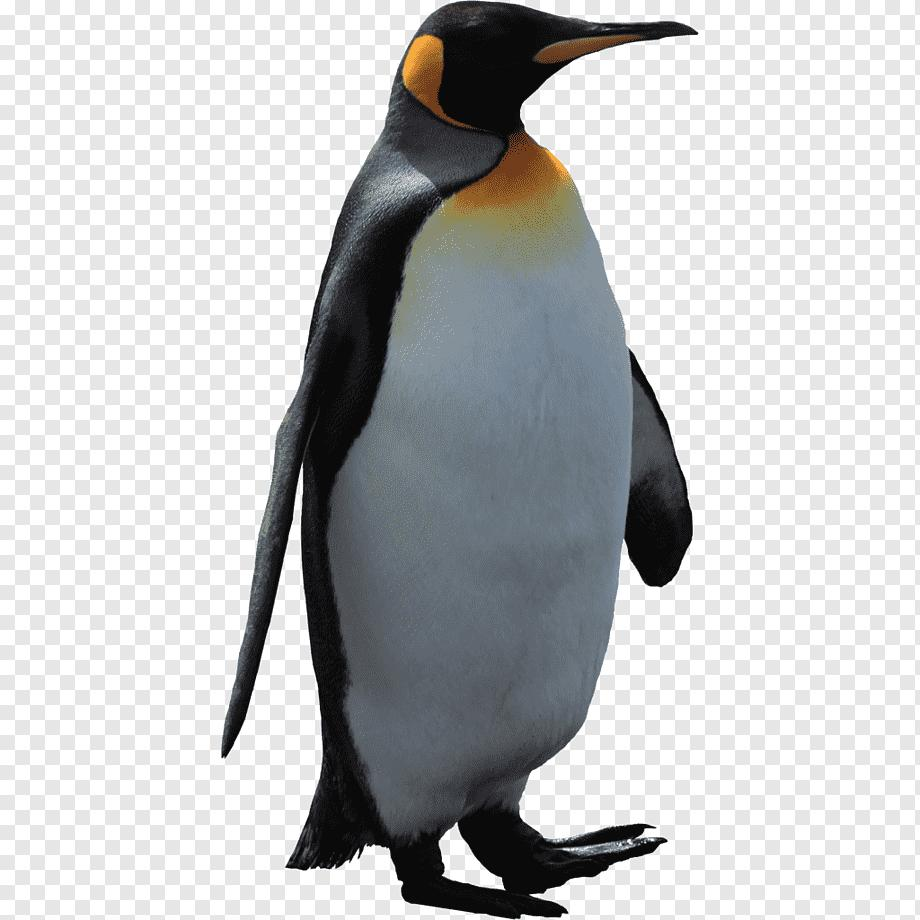king: (241, 0, 739, 920)
